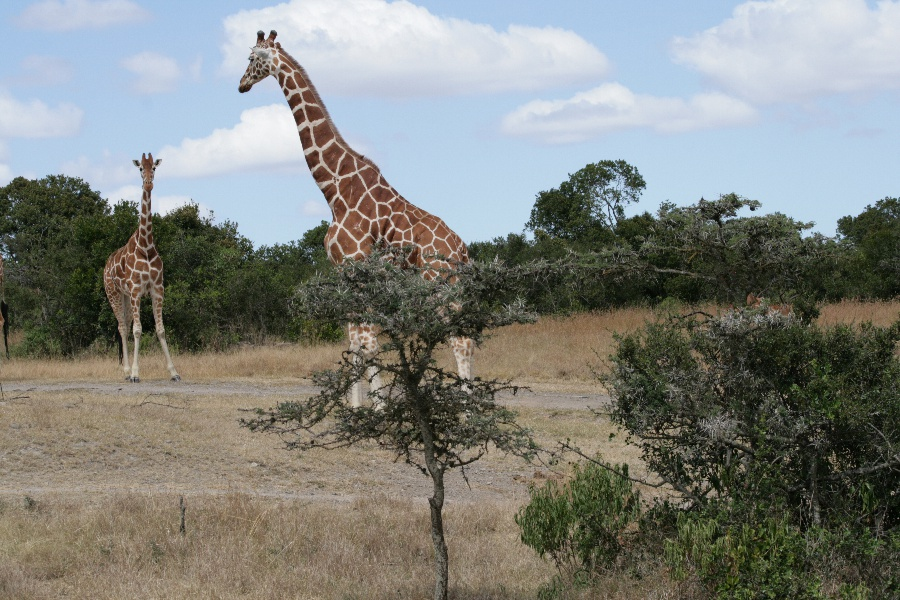giraffe: (230, 21, 497, 437), (95, 148, 194, 386)
